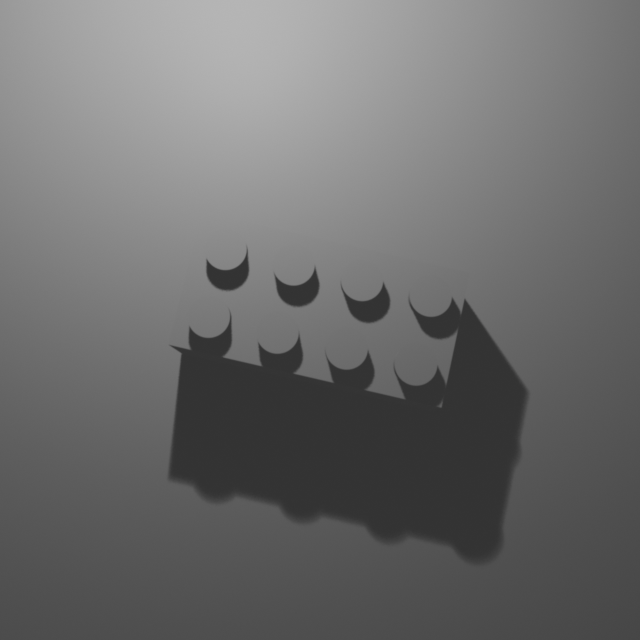lego_2x4: (166, 209, 472, 411)
